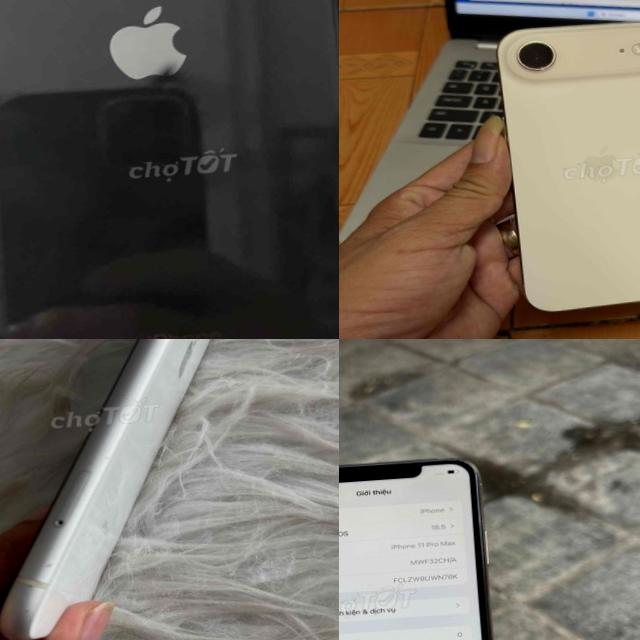scratch: (15, 597, 47, 620), (30, 556, 60, 572)
